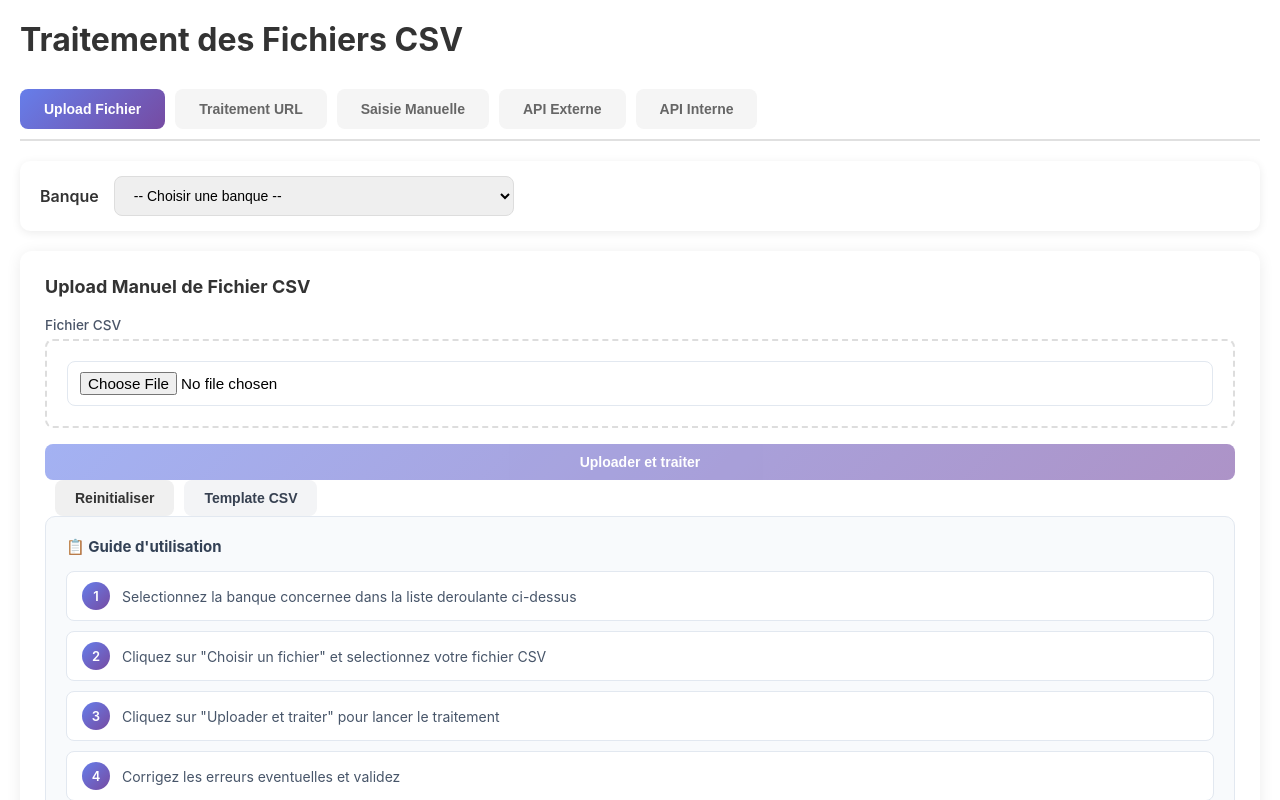
Test case: Processing › switches to API internal tab with documentation
expect the heading "Traitement des Fichiers CSV" is shown: met, box 20,20 -> 463,59
Click the button "API Interne" at [697, 109], box 636,89 -> 758,129
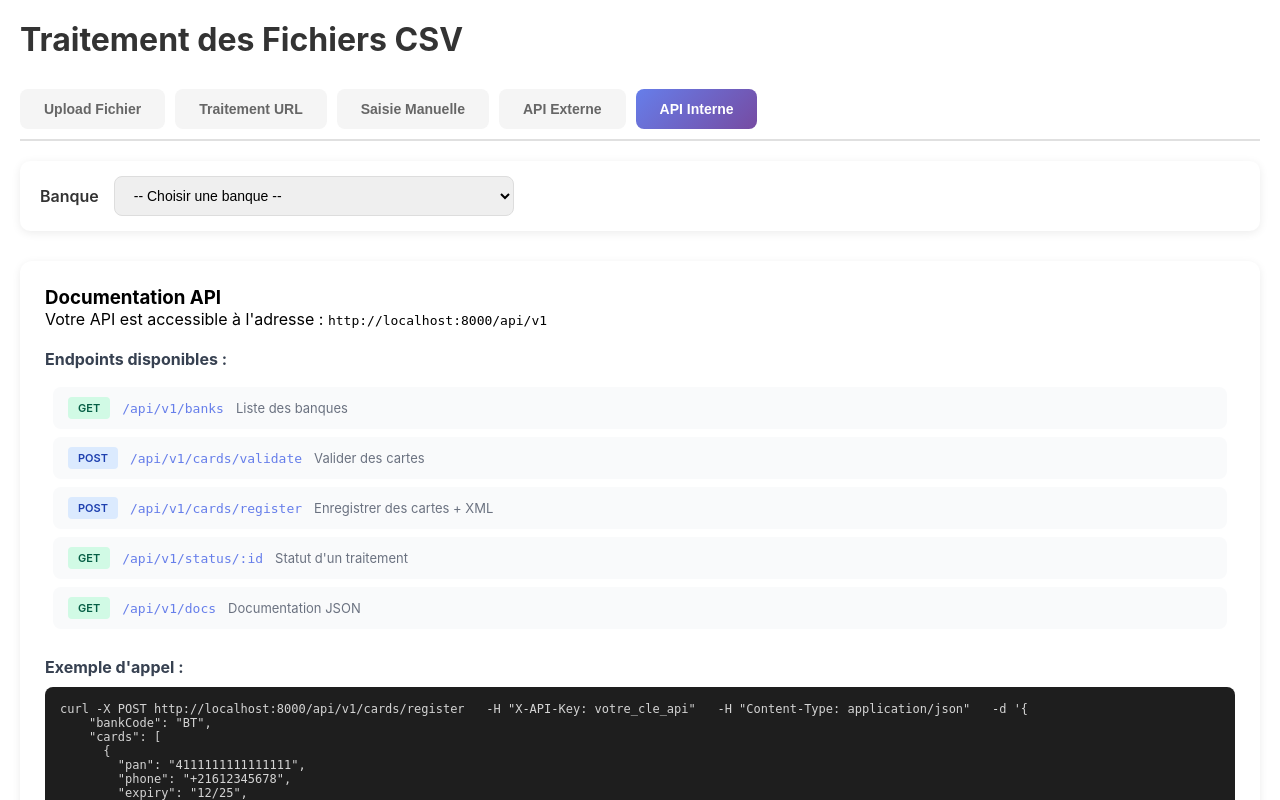
expect the heading "Documentation API" is shown: met, box 45,286 -> 221,309
expect the text "/api/v1/banks" is shown: met, box 122,400 -> 224,416
expect the text "/api/v1/cards/register" is shown: met, box 130,500 -> 302,516
